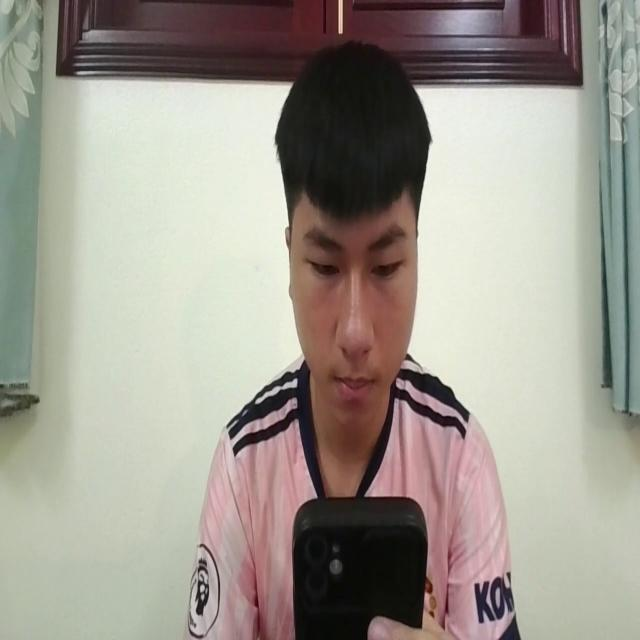phone: (293, 482, 432, 640)
student: (187, 28, 521, 640)
